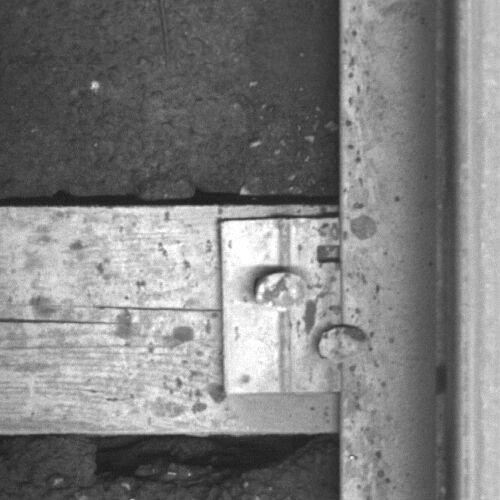do: (218, 214, 368, 392)
rail: (452, 1, 500, 500)
tie_wood: (1, 205, 341, 432)
wood_crack: (1, 303, 215, 331)
